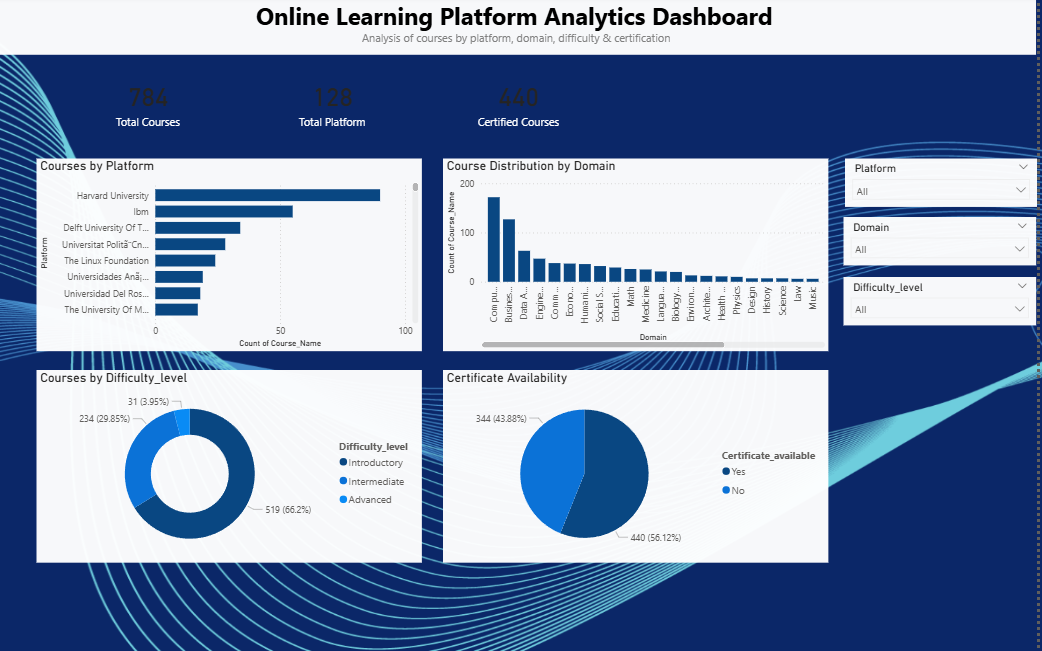

What the dashboard file says about the page in this screenshot:
{"tool":"powerbi","page":{"name":"Dashboard ","canvas":[1280,720],"ordinal":0},"visuals":[{"type":"clusteredBarChart","title":"Courses by Platform","fields":{"Category":["online_courses_main_cleaned.Platform"],"Y":["CountNonNull(online_courses_main_cleaned.Course_Name)"]},"box":[0,0,476.3,322.2],"z":0},{"type":"clusteredColumnChart","title":" Course Distribution by Domain","fields":{"Category":["online_courses_main_cleaned.Domain"],"Y":["CountNonNull(online_courses_main_cleaned.Course_Name)"]},"box":[495.1,0,411.8,322.2],"z":1000},{"type":"donutChart","title":"Courses by Difficulty_level","fields":{"Category":["online_courses_main_cleaned.Difficulty_level"],"Y":["CountNonNull(online_courses_main_cleaned.Course_Name)"]},"box":[0,336,477,326],"z":2000},{"type":"pieChart","title":" Certificate Availability ","fields":{"Category":["online_courses_main_cleaned.Certificate_available"],"Y":["CountNonNull(online_courses_main_cleaned.Course_Name)"]},"box":[495.5,336.8,411.3,325.5],"z":3000},{"type":"slicer","fields":{"Values":["online_courses_main_cleaned.Platform"]},"box":[927.4,0,342.7,322.2],"z":4000},{"type":"slicer","fields":{"Values":["online_courses_main_cleaned.Domain"]},"box":[927.4,336.4,342.7,325.4],"z":5000},{"type":"slicer","fields":{"Values":["online_courses_main_cleaned.Difficulty_level"]},"box":[948.9,582.9,296.3,68],"z":6000}]}

Visuals, with their boxes on the page's 1280x720 design canvas (x1, y1, x2, y2). These are canvas units, not pixel positions in the 1042x651 screenshot, which may show the page scaled, cropped or inside an application window:
"Courses by Platform" clusteredBarChart: x1=0, y1=0, x2=476, y2=322
" Course Distribution by Domain" clusteredColumnChart: x1=495, y1=0, x2=907, y2=322
"Courses by Difficulty_level" donutChart: x1=0, y1=336, x2=477, y2=662
" Certificate Availability " pieChart: x1=496, y1=337, x2=907, y2=662
slicer - online_courses_main_cleaned.Platform: x1=927, y1=0, x2=1270, y2=322
slicer - online_courses_main_cleaned.Domain: x1=927, y1=336, x2=1270, y2=662
slicer - online_courses_main_cleaned.Difficulty_level: x1=949, y1=583, x2=1245, y2=651
